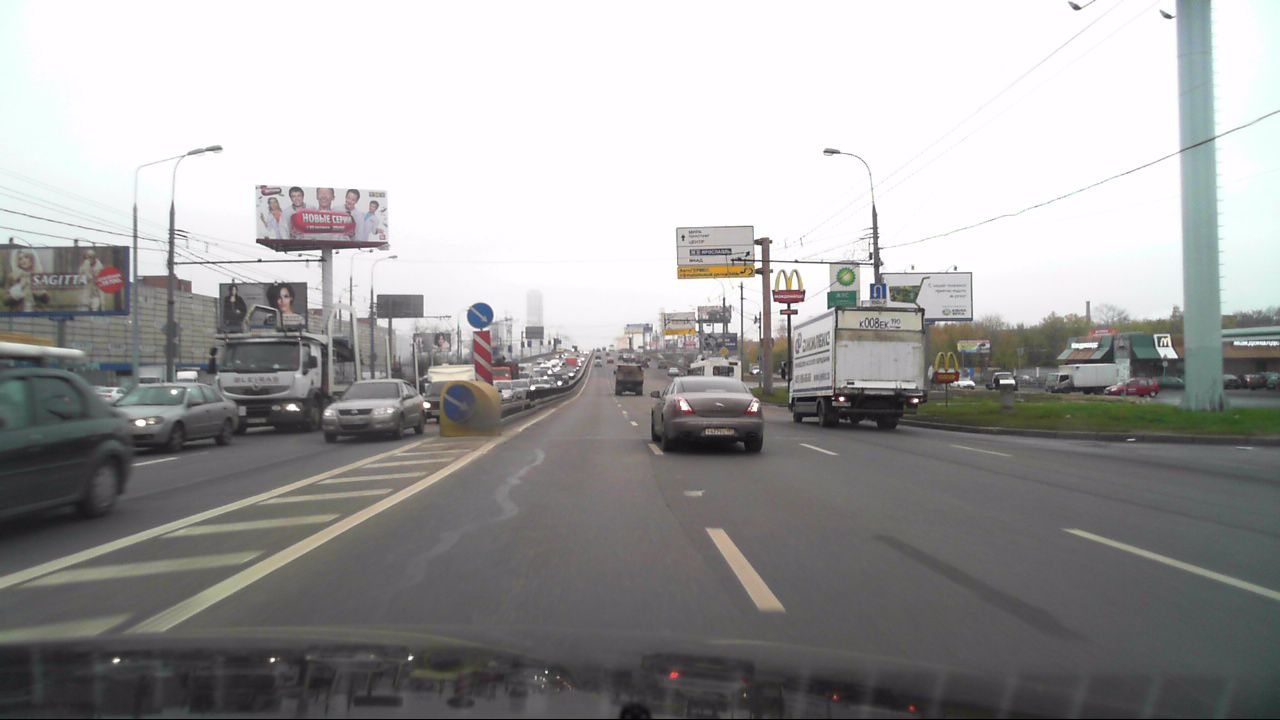U-turn: (870, 283, 887, 299)
